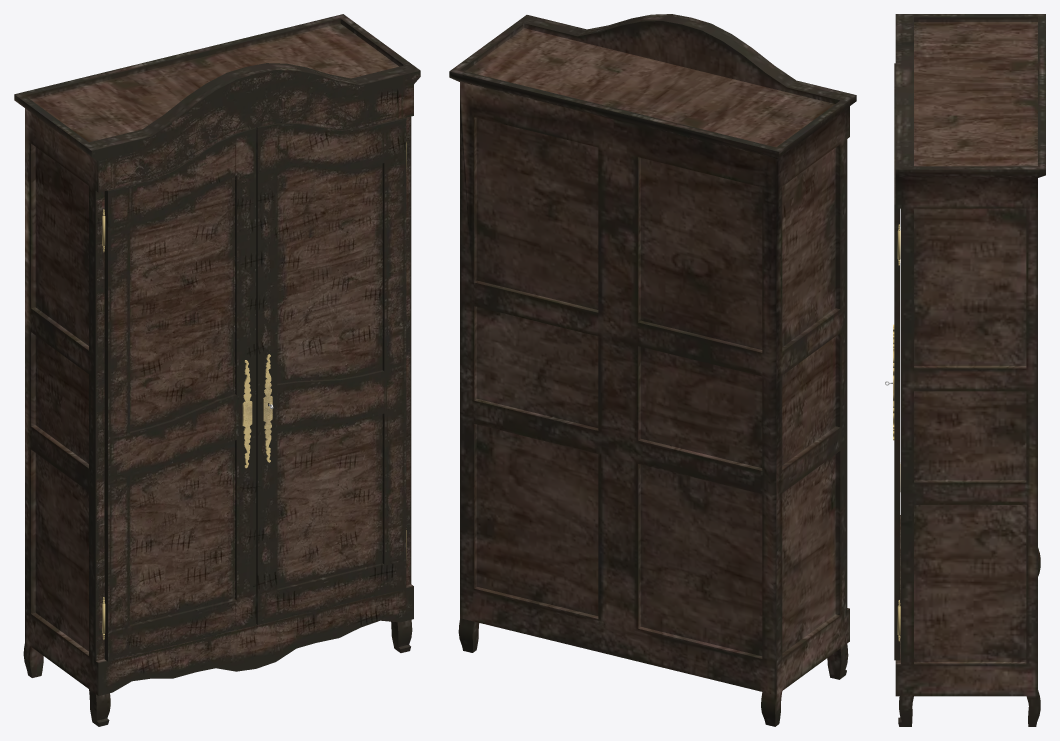
The model's file is wardrobe_warn_crazyshroomz.glb.
3 renders of one model, left to right at view 1: azimuth 30°, elevation 25°; view 2: azimuth 150°, elevation 25°; view 3: azimuth 270°, elevation 25°, orthographic. The views are drawn at different scales.
Visible parts, largest first — view 1: Object_3, Object_4; view 2: Object_3; view 3: Object_3, Object_2.
Part boxes in pixels (<box>): Object_3: <box>14,14,420,726</box>; Object_4: <box>242,354,273,468</box>; Object_3: <box>449,14,856,726</box>; Object_3: <box>894,14,1045,726</box>; Object_2: <box>897,224,900,641</box>.
Bounding box in the file's own units: 1.29 × 2.31 × 0.564.
Materials: 3 (3 with a texture image).
